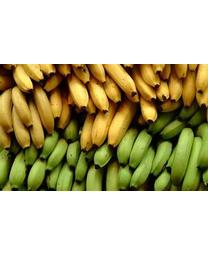banana: (1, 64, 207, 188)
